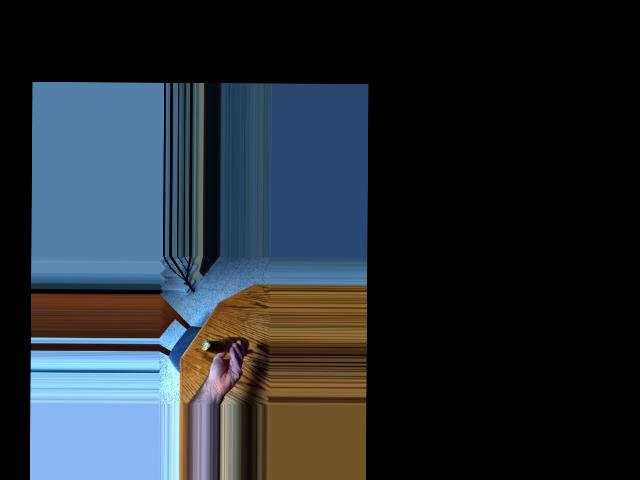sweet_potato: (205, 334, 244, 356)
